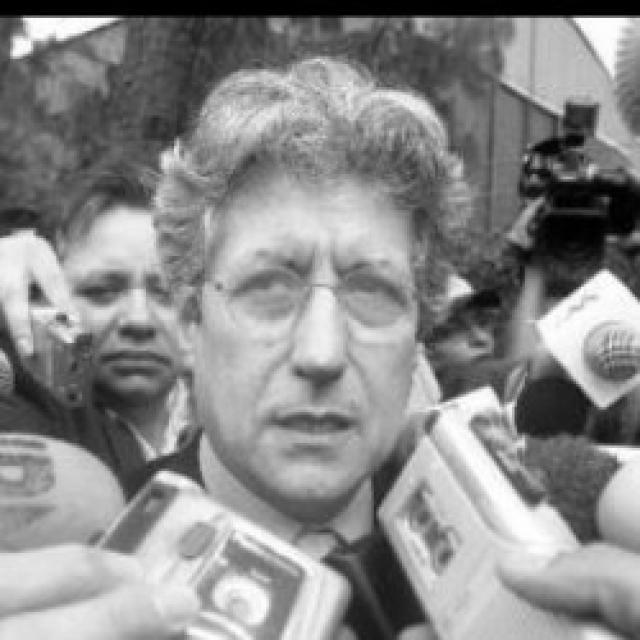real: (196, 170, 420, 514), (241, 259, 407, 324)
